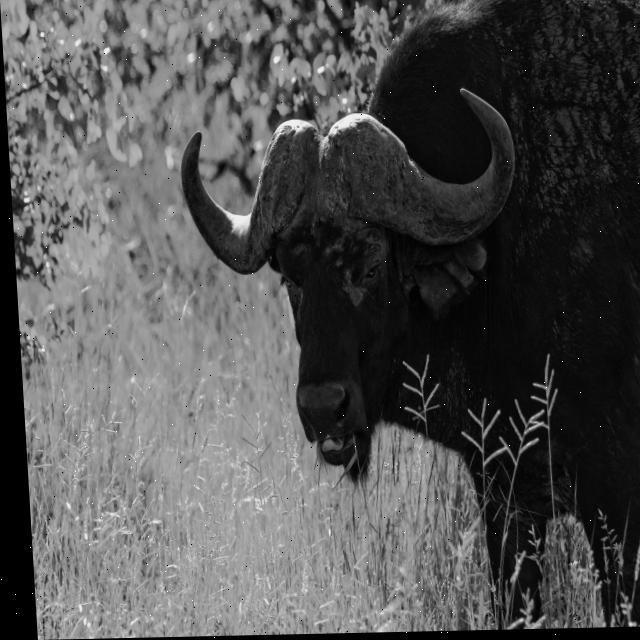Buffalo: (171, 0, 640, 633)
